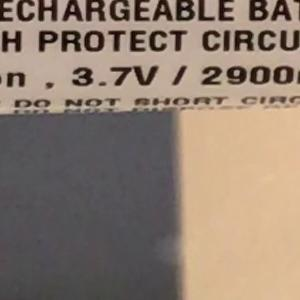keyword: (62, 56, 169, 96)
